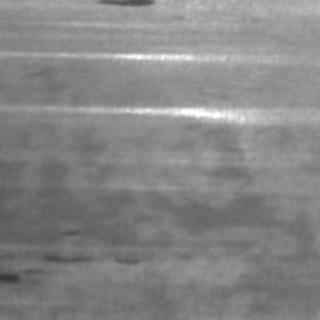inclusion: (0, 250, 90, 282)
scratches: (37, 98, 305, 124), (15, 43, 253, 67)
